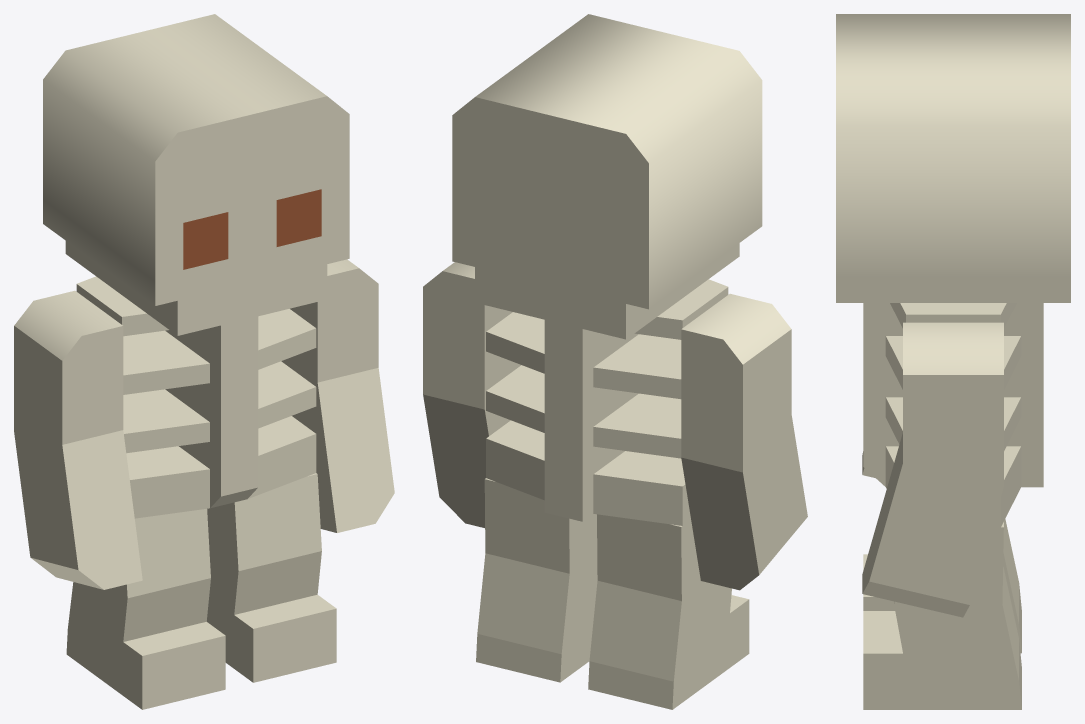
The model's file is characterSkeleton.dae.
3 views of the same model, side by side, from view 1: azimuth 30°, elevation 25°; view 2: azimuth 150°, elevation 25°; view 3: azimuth 270°, elevation 25° (orthographic). The views are drawn at different scales.
Parts seen in each view (by area): view 1: head, body, armLeft, legLeft, legRight, armRight; view 2: head, body, armLeft, legLeft, legRight, armRight; view 3: head, armRight, legRight, body, legLeft.
Part boxes in pixels (x1=…): head: x1=43, y1=14, x2=349, y2=335; body: x1=76, y1=276, x2=316, y2=518; armLeft: x1=14, y1=290, x2=142, y2=589; legLeft: x1=66, y1=509, x2=225, y2=709; legRight: x1=206, y1=473, x2=336, y2=682; armRight: x1=281, y1=259, x2=394, y2=532; head: x1=452, y1=14, x2=762, y2=339; body: x1=486, y1=279, x2=728, y2=525; armLeft: x1=681, y1=293, x2=807, y2=590; legLeft: x1=588, y1=514, x2=749, y2=709; legRight: x1=476, y1=478, x2=597, y2=682; armRight: x1=423, y1=262, x2=521, y2=527; head: x1=836, y1=14, x2=1070, y2=302; armRight: x1=862, y1=322, x2=1003, y2=617; legRight: x1=863, y1=522, x2=1021, y2=709; body: x1=863, y1=303, x2=1043, y2=527; legLeft: x1=863, y1=519, x2=1021, y2=653.
Bounding box in the file's own units: 0.4232 × 0.7432 × 0.26.
